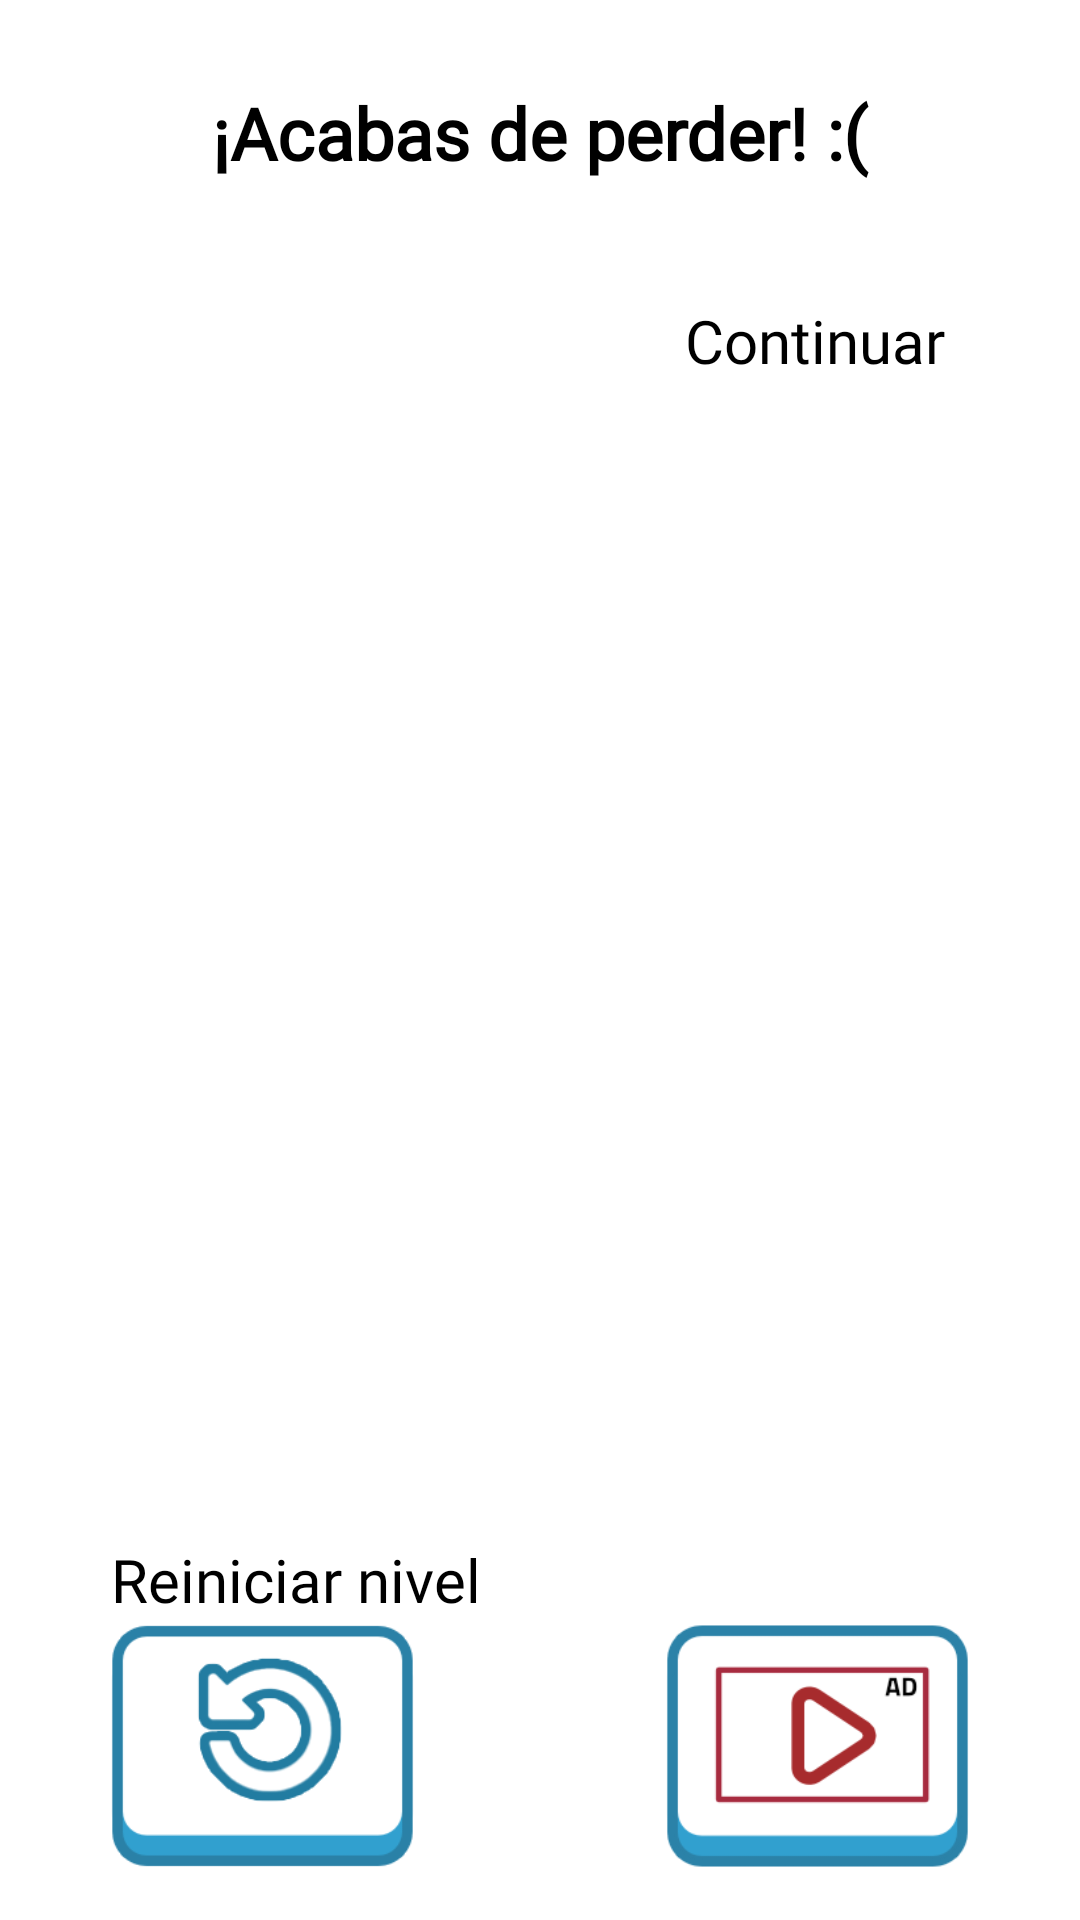

Named icons in this screenshot (1080x1920) and their centers, [x,y]:
Boton para ver ads y continuar jugando: [817,1746]
